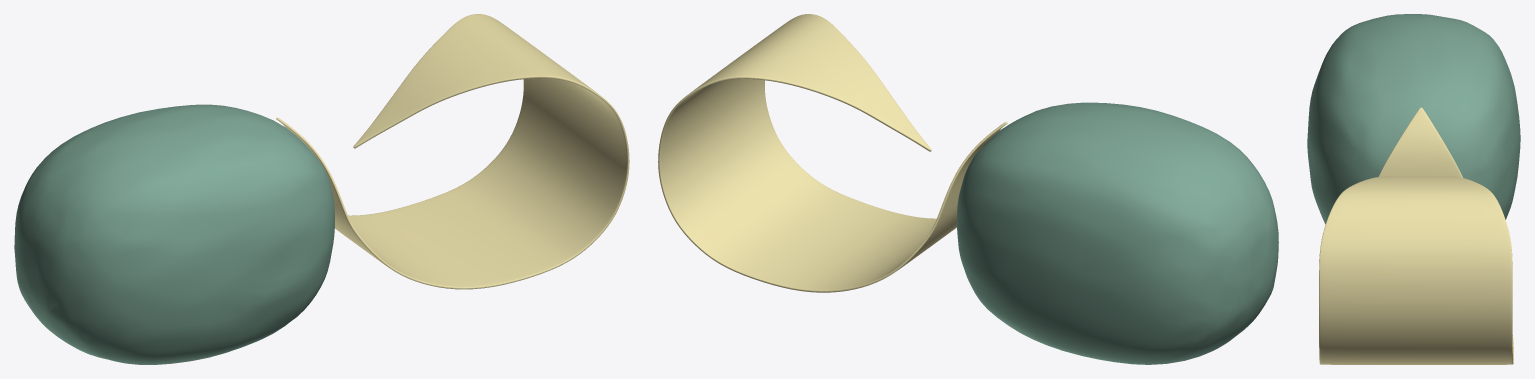
Rendered from sculpture1.glb.
3 views of the same model, side by side, from view 1: azimuth 30°, elevation 25°; view 2: azimuth 150°, elevation 25°; view 3: azimuth 270°, elevation 25° (orthographic). The views are drawn at different scales.
Parts seen in each view (by area): view 1: piedraverde, metallentes; view 2: piedraverde, metallentes; view 3: metallentes, piedraverde.
Part boxes in pixels (x1=…): piedraverde: x1=14, y1=104, x2=334, y2=364; metallentes: x1=276, y1=14, x2=629, y2=289; piedraverde: x1=957, y1=102, x2=1278, y2=364; metallentes: x1=658, y1=14, x2=1007, y2=292; metallentes: x1=1319, y1=107, x2=1513, y2=364; piedraverde: x1=1307, y1=14, x2=1520, y2=224.
Bounding box in the file's own units: 0.3233 × 0.1226 × 0.1178.
